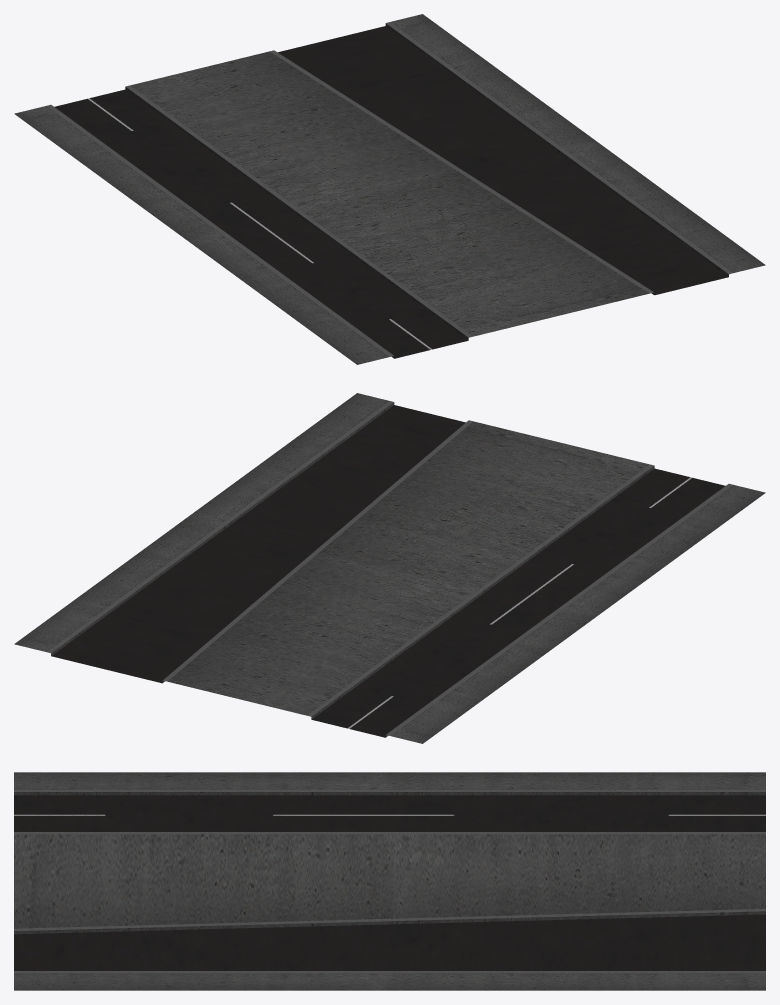
The model's file is RJs_Road Pass 2+4+2 Basic Segment_L_2_lod.fbx.
3 views of the same model, one above another, from view 1: azimuth 30°, elevation 25°; view 2: azimuth 150°, elevation 25°; view 3: azimuth 270°, elevation 25° (orthographic). The views are drawn at different scales.
Visible parts, largest first — view 1: plane.001; view 2: plane.001; view 3: plane.001.
Boxes of the visible parts, x1=… form: plane.001: x1=14, y1=14, x2=765, y2=364; plane.001: x1=14, y1=393, x2=765, y2=743; plane.001: x1=14, y1=772, x2=765, y2=990.
Size of the model in its own units: 4400 by 30.1 by 6400.
